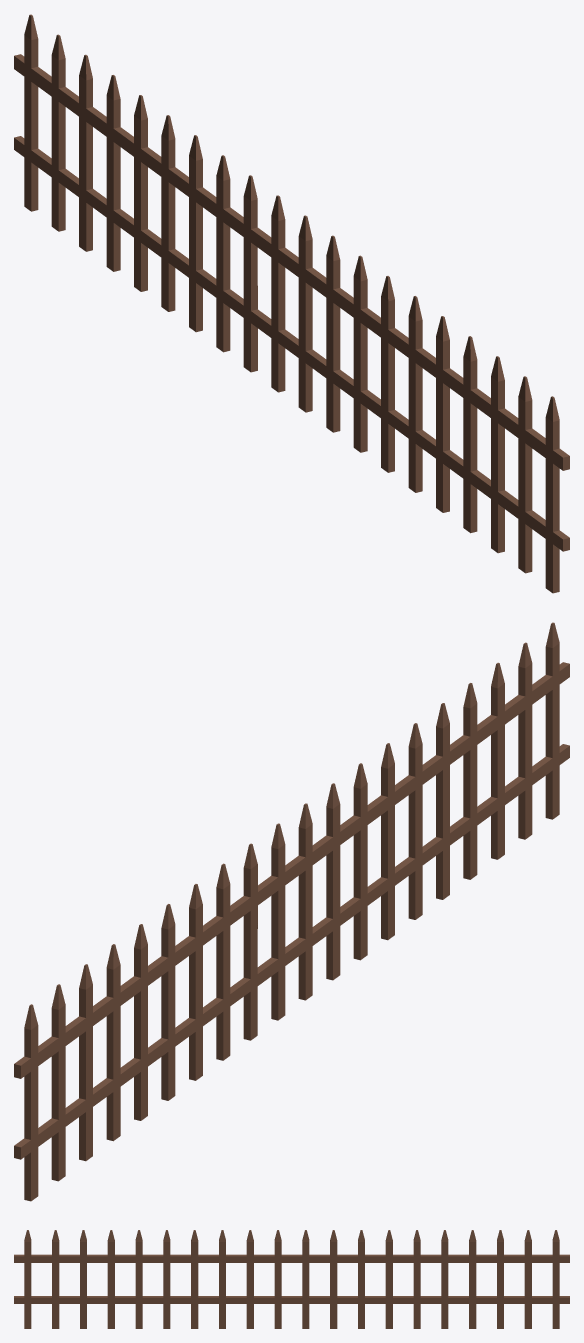
File: Fense.fbx
3 views of the same model, one above another, from view 1: azimuth 30°, elevation 25°; view 2: azimuth 150°, elevation 25°; view 3: azimuth 270°, elevation 25° (orthographic). The views are drawn at different scales.
Parts seen in each view (by area): view 1: Fense.001; view 2: Fense.001; view 3: Fense.001.
Part boxes in pixels (x1,y1,x2,y2): Fense.001: (14, 14, 569, 593); Fense.001: (14, 622, 569, 1201); Fense.001: (14, 1230, 569, 1328).
Bounding box in the file's own units: 7.42 × 197 × 1018.
